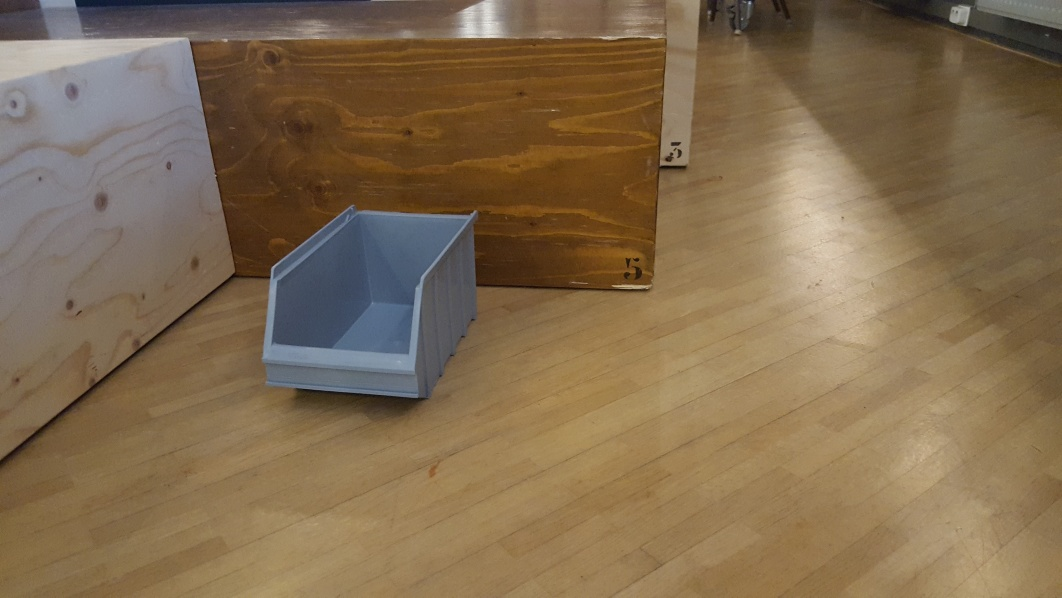tray: (262, 202, 475, 403)
